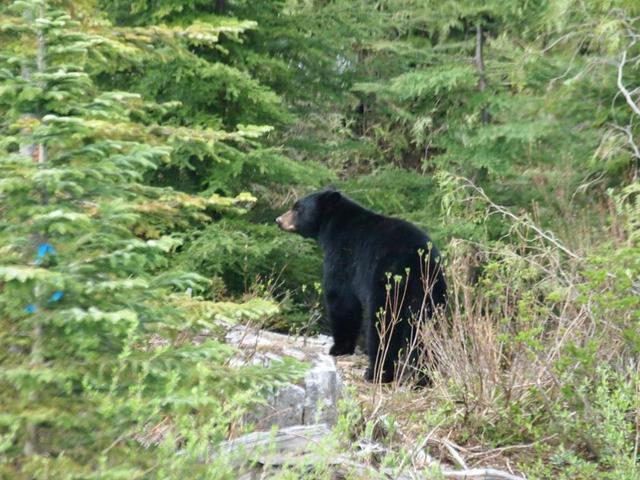bear: (260, 156, 471, 386)
